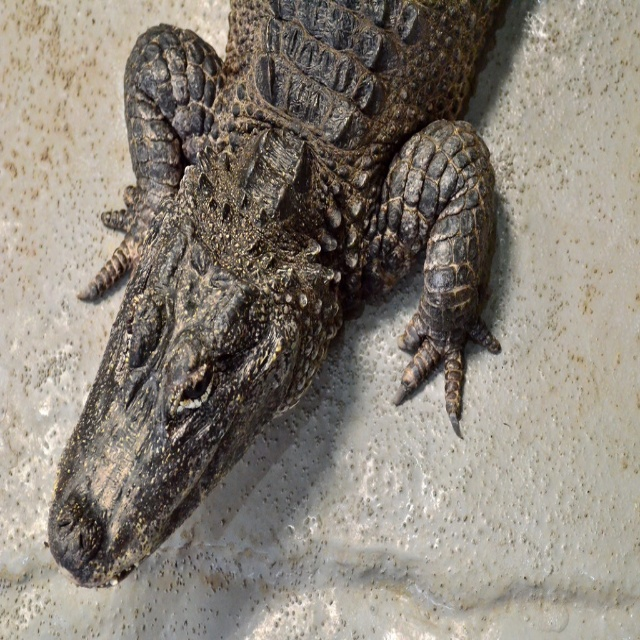Crocodile: (50, 0, 510, 590)
